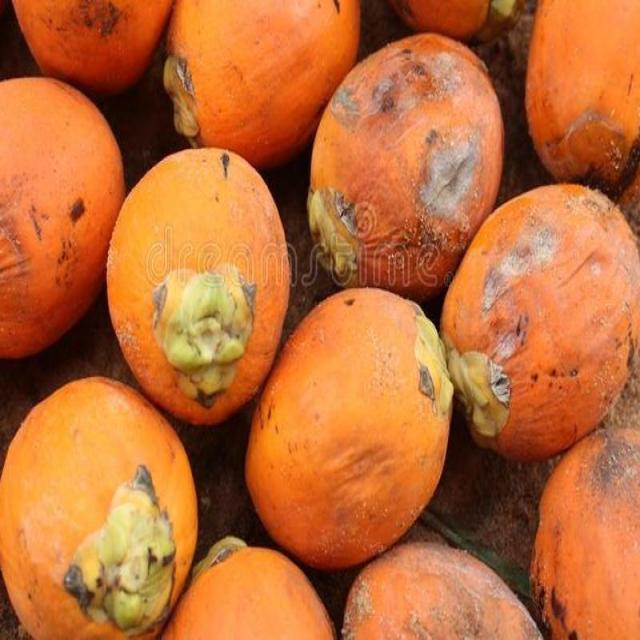good: (438, 183, 639, 639), (287, 32, 506, 325), (240, 288, 459, 576), (103, 148, 294, 431), (0, 376, 201, 639), (0, 78, 127, 363), (161, 0, 362, 174)
